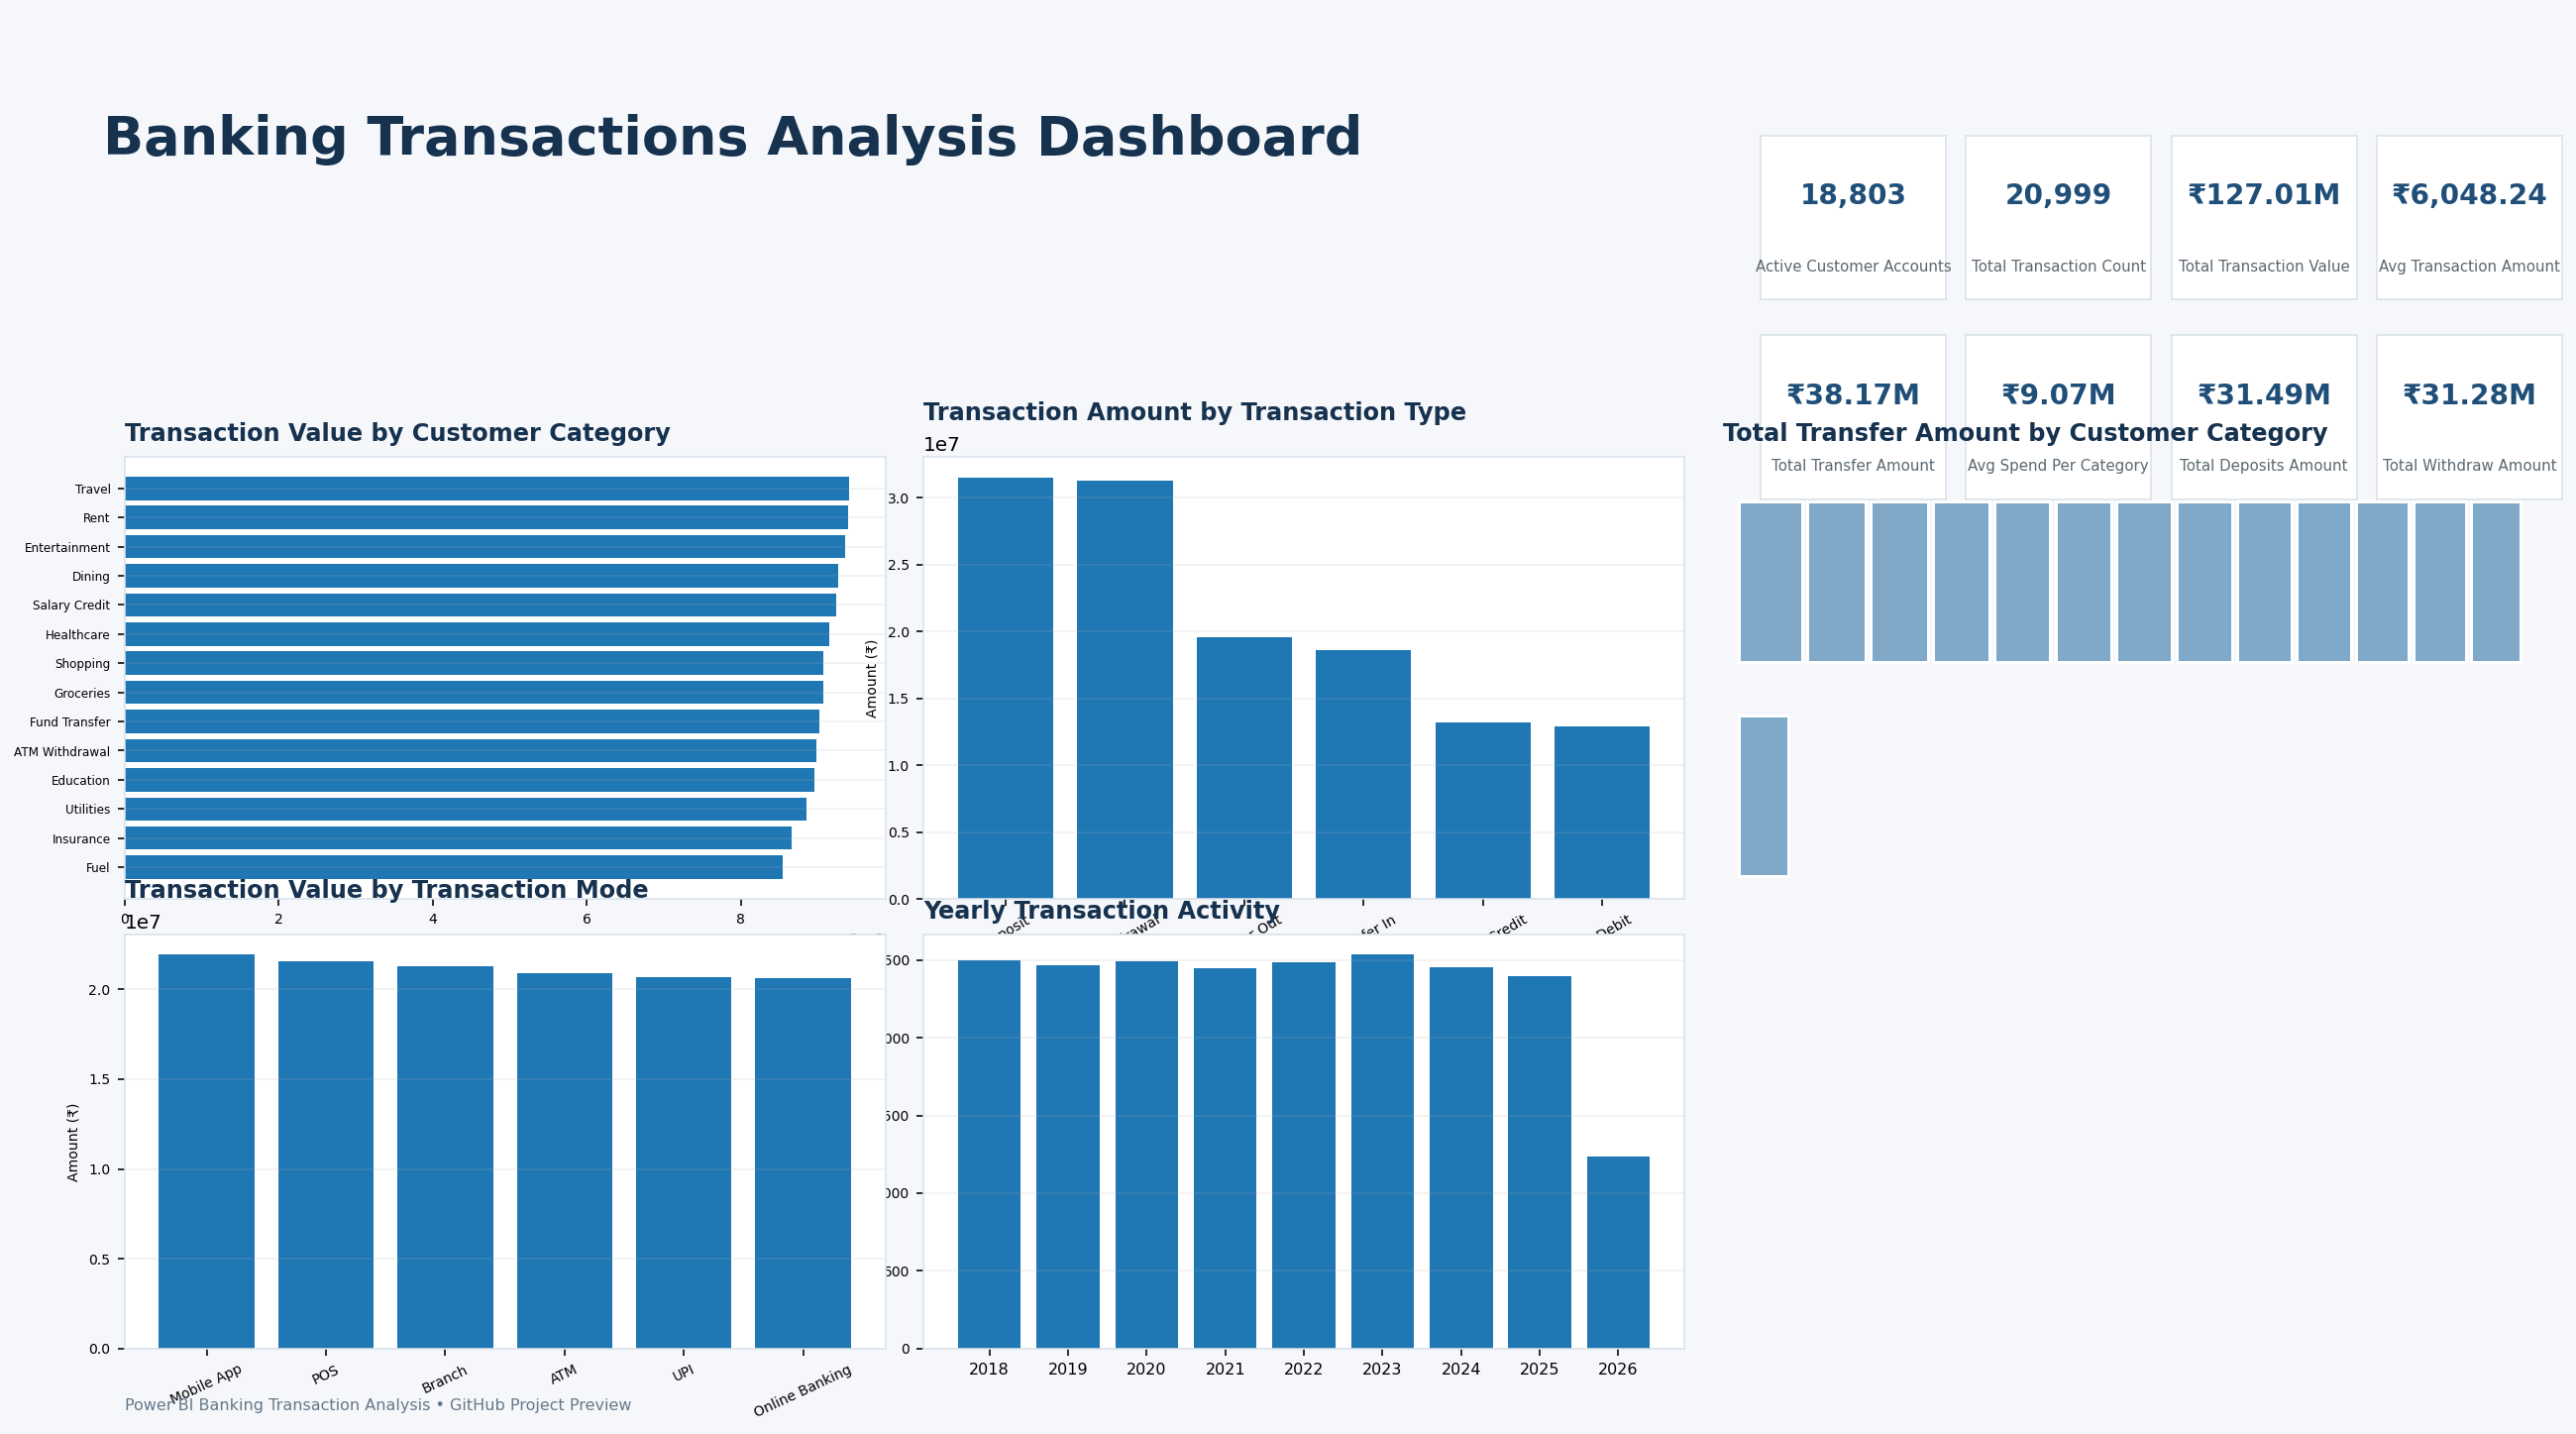

What the dashboard file says about the page in this screenshot:
{"tool":"powerbi","page":{"name":"final_dashboard","canvas":[2560,1440],"ordinal":0},"visuals":[{"type":"textbox","box":[34,42.5,1247.2,326],"z":0},{"type":"cardVisual","fields":{"Data":["Sheet1.Total_Transaction_Value"]},"box":[2259.2,272.1,260.8,192.8],"z":1},{"type":"cardVisual","fields":{"Data":["Sheet1.Active_Customer_Accounts"]},"box":[1967.2,51,260.8,192.8],"z":2},{"type":"cardVisual","fields":{"Data":["Sheet1.Total_Transction_Count"]},"box":[2259.2,51,260.8,192.8],"z":3},{"type":"cardVisual","fields":{"Data":["Sheet1.Average_Transaction_Amount"]},"box":[1967.2,272.1,260.8,192.8],"z":4},{"type":"clusteredColumnChart","fields":{"Category":["Sheet1.Transaction_Mode"],"Y":["Sum(Sheet1.amount)"]},"box":[34.7,969.4,773.5,436.7],"z":6},{"type":"lineStackedColumnComboChart","fields":{"Category":["Sheet1.txn_type"],"Y":["Sum(Sheet1.amount)"]},"box":[858.9,493.2,756.9,442.2],"z":7},{"type":"columnChart","fields":{"Category":["Sheet1.txn_date.Variation.Date Hierarchy.Year"],"Y":["Sum(Sheet1.transaction_id)"]},"box":[858.9,969.4,756.9,439.4],"z":8},{"type":"clusteredColumnChart","title":"Transaction Volume per Category","fields":{"Category":["Sheet1.Customer_category"],"Y":["Sheet1.Total_Transaction_Value"]},"box":[34,493.2,773.9,442.2],"z":9},{"type":"treemap","fields":{"Group":["Sheet1.Customer_category"],"Values":["Sheet1.Total_Transfer_Amount"]},"box":[1669.6,493.2,853.2,915.6],"z":10},{"type":"cardVisual","fields":{"Data":["Sheet1.Total_Deposits"]},"box":[1669.6,51,260.8,192.8],"z":11},{"type":"cardVisual","fields":{"Data":["Sheet1.Total_Withdrawal_Amount"]},"box":[1669.6,272.1,260.8,192.8],"z":12},{"type":"cardVisual","fields":{"Data":["Sheet1.Total_Transfer_Amount"]},"box":[1374.8,51,260.8,192.8],"z":13},{"type":"cardVisual","fields":{"Data":["Sheet1.Avg_Spend_Per_Category"]},"box":[1374.8,272.1,258,192.8],"z":14}]}

Visuals, with their boxes in screenshot pixels (x1, y1, x2, y2), scaled from the page's 2560x1440 canvas onto the 2576x1434 screenshot:
textbox: (35,43,1289,367)
cardVisual - Sheet1.Total_Transaction_Value: (2273,271,2535,463)
cardVisual - Sheet1.Active_Customer_Accounts: (1980,51,2242,243)
cardVisual - Sheet1.Total_Transction_Count: (2273,51,2535,243)
cardVisual - Sheet1.Average_Transaction_Amount: (1980,271,2242,463)
clusteredColumnChart - Sheet1.Transaction_Mode x Sum(Sheet1.amount): (35,965,813,1400)
lineStackedColumnComboChart - Sheet1.txn_type x Sum(Sheet1.amount): (864,492,1626,932)
columnChart - Sheet1.txn_date.Variation.Date Hierarchy.Year x Sum(Sheet1.transaction_id): (864,965,1626,1403)
"Transaction Volume per Category" clusteredColumnChart: (35,492,813,932)
treemap - Sheet1.Customer_category x Sheet1.Total_Transfer_Amount: (1680,492,2538,1403)
cardVisual - Sheet1.Total_Deposits: (1680,51,1943,243)
cardVisual - Sheet1.Total_Withdrawal_Amount: (1680,271,1943,463)
cardVisual - Sheet1.Total_Transfer_Amount: (1383,51,1646,243)
cardVisual - Sheet1.Avg_Spend_Per_Category: (1383,271,1643,463)
